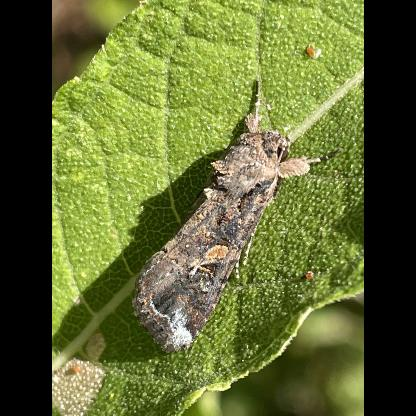Fall Armyworm Moth: (128, 77, 346, 357)
